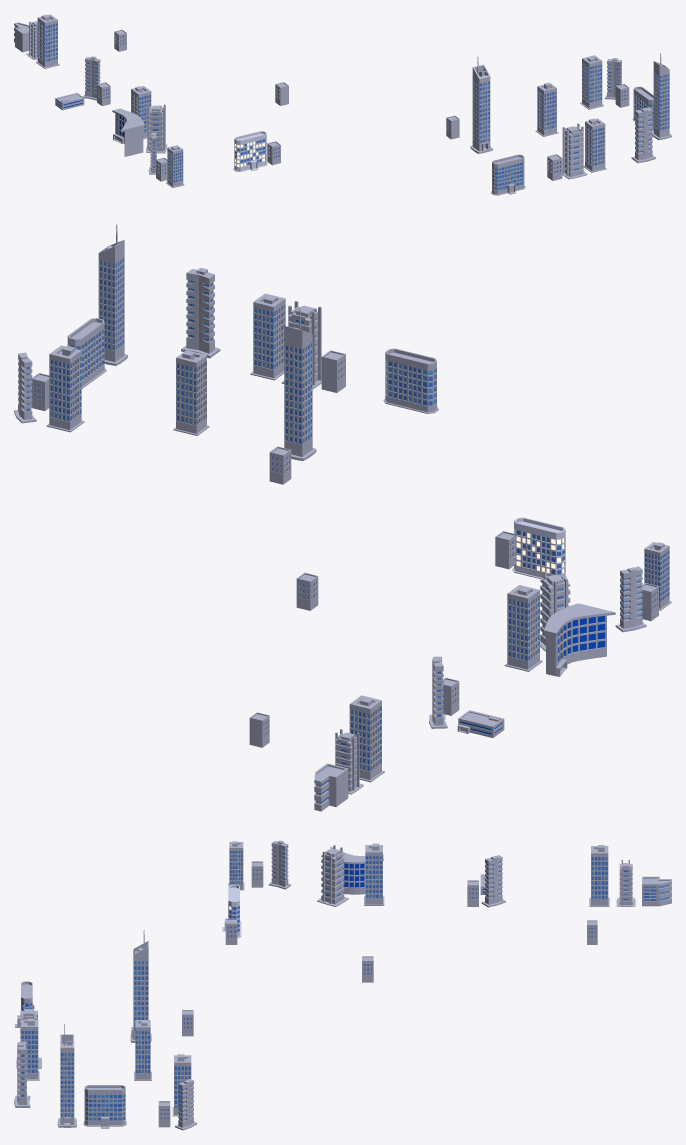
The model's file is Office.glb.
The picture shows the model from 3 angles, top to bottom: view 1: azimuth 30°, elevation 25°; view 2: azimuth 150°, elevation 25°; view 3: azimuth 270°, elevation 25°; orthographic projection. The views are drawn at different scales.
Parts seen in each view (by area): view 1: Office.005, Office.003, Office.002, Office.012, Hotel, office.014, Office.009, Office.004, Office.006, Office.010, office.016, office.002 (+15 smaller); view 2: Office.005, Hotel, Office.002, Office.003, Office.012, Office.006, Office.008, Office.004, Office.010, office.016, Office.009, Office.007 (+10 smaller); view 3: Office.007, Office.003, Office.005, office.002, Office.008, Office.009, Office.010, Hotel, Office.004, office.001, office.003, office.007 (+6 smaller).
Boxes of the visible parts, x1,y1,x2,y2 form: Office.005: [470, 57, 492, 153]; Office.003: [652, 53, 671, 140]; Office.002: [491, 154, 525, 195]; Office.012: [233, 131, 267, 171]; Hotel: [112, 108, 144, 156]; office.014: [562, 123, 587, 179]; Office.009: [36, 14, 59, 68]; Office.004: [583, 118, 606, 172]; Office.006: [580, 55, 603, 109]; Office.010: [535, 82, 558, 136]; office.016: [631, 107, 655, 163]; office.002: [146, 103, 167, 153]; Office.005: [284, 309, 316, 460]; Hotel: [544, 603, 615, 676]; Office.002: [383, 348, 438, 413]; Office.003: [98, 224, 127, 365]; Office.012: [512, 517, 567, 579]; Office.006: [46, 345, 84, 432]; Office.008: [504, 585, 542, 671]; Office.004: [250, 293, 285, 380]; Office.010: [173, 350, 209, 435]; office.016: [181, 268, 220, 358]; Office.009: [349, 695, 384, 782]; Office.007: [67, 318, 106, 388]; Office.007: [83, 1085, 126, 1128]; Office.003: [57, 1024, 76, 1127]; Office.005: [130, 930, 151, 1042]; office.002: [317, 845, 348, 906]; Office.008: [364, 843, 384, 905]; Office.009: [589, 845, 609, 906]; Office.010: [134, 1020, 151, 1080]; Hotel: [330, 846, 383, 894]; Office.004: [21, 1018, 39, 1080]; office.001: [481, 855, 505, 907]; office.003: [642, 876, 671, 906]; office.007: [268, 840, 291, 889].
Bounding box in the file's own units: 102 × 20.56 × 113.
